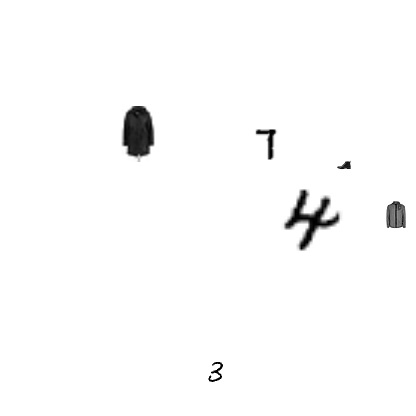3: (202, 358, 230, 386)
4: (267, 175, 351, 259)
7: (247, 119, 289, 161)
Ankle_boot: (337, 158, 351, 172)
Coat: (110, 106, 166, 162), (382, 201, 410, 229)
